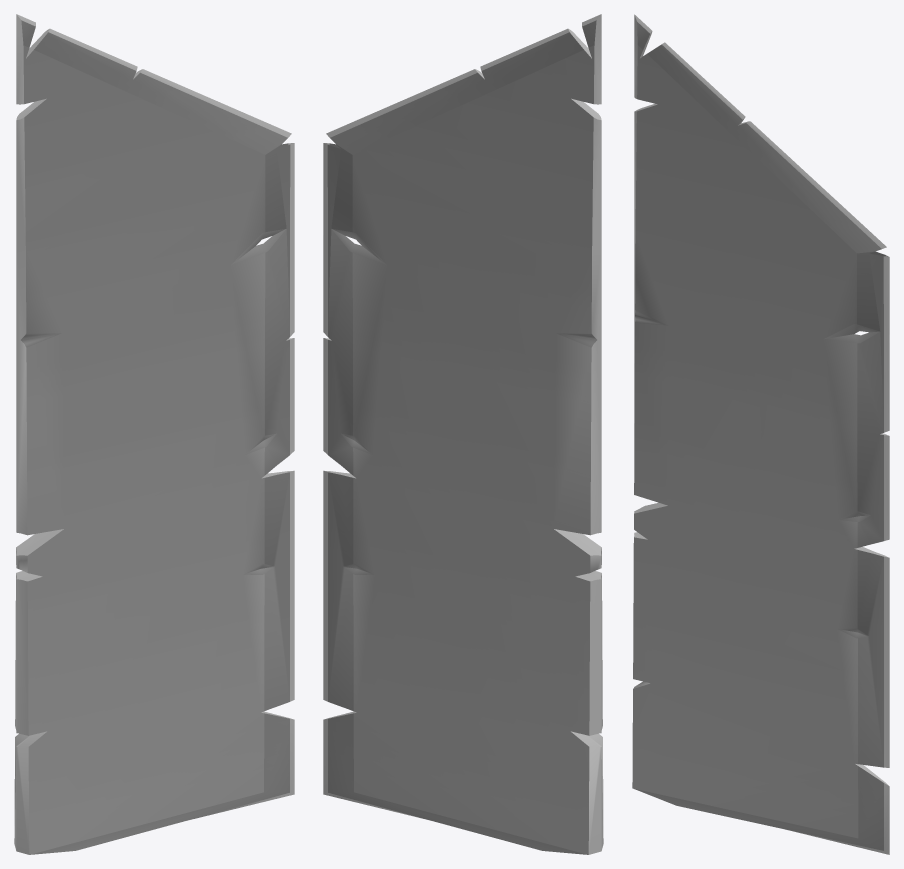
File: stone_blade_scratched_056.glb
3 views of the same model, side by side, from view 1: azimuth 30°, elevation 25°; view 2: azimuth 150°, elevation 25°; view 3: azimuth 330°, elevation 25° (orthographic). The views are drawn at different scales.
Visible parts, largest first — view 1: stone_blade_scratched.056; view 2: stone_blade_scratched.056; view 3: stone_blade_scratched.056.
Boxes of the visible parts, bbox=[...] form: stone_blade_scratched.056: bbox=[14, 14, 294, 854]; stone_blade_scratched.056: bbox=[323, 14, 603, 854]; stone_blade_scratched.056: bbox=[632, 14, 889, 854].
Bounding box in the file's own units: 4.06 × 11.85 × 0.374.
1 material, 1 textured.
